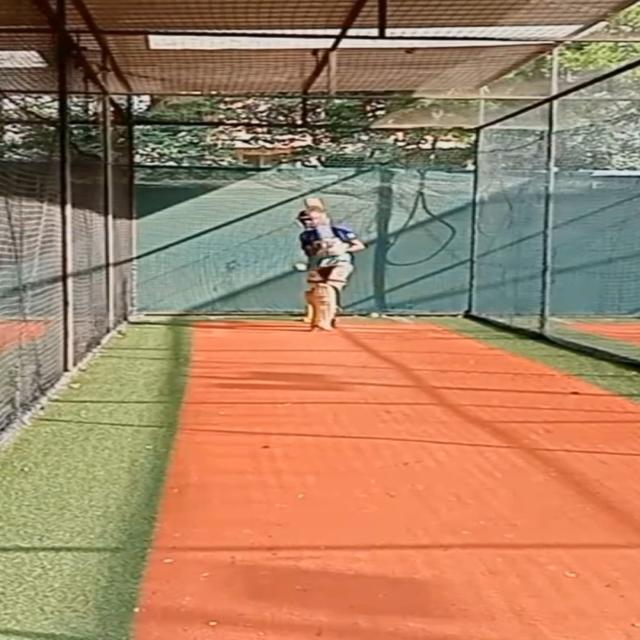ball: (290, 260, 314, 274)
